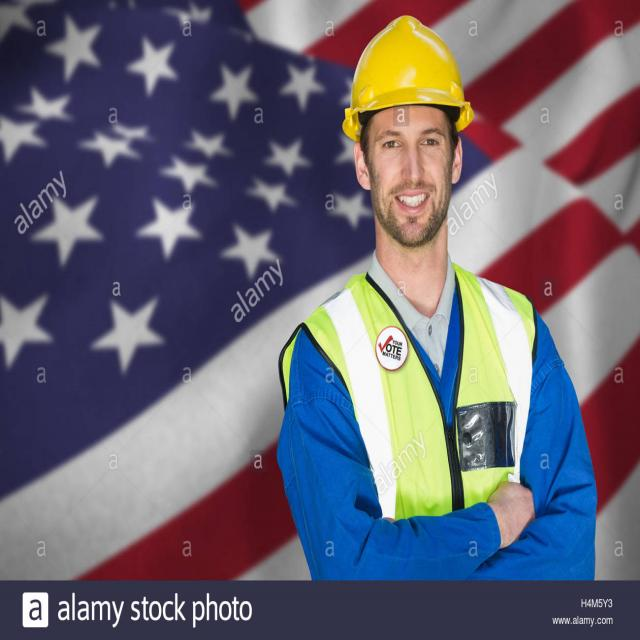Reflective-Jacket: (300, 265, 544, 531)
Safety-Helmet: (339, 13, 477, 142)
